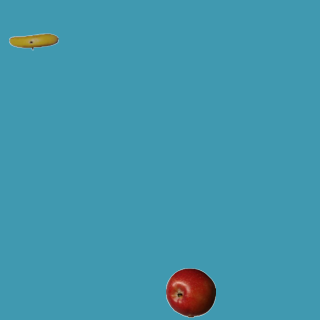Apple Braeburn: (165, 267, 215, 317)
Banana: (8, 16, 58, 66)
